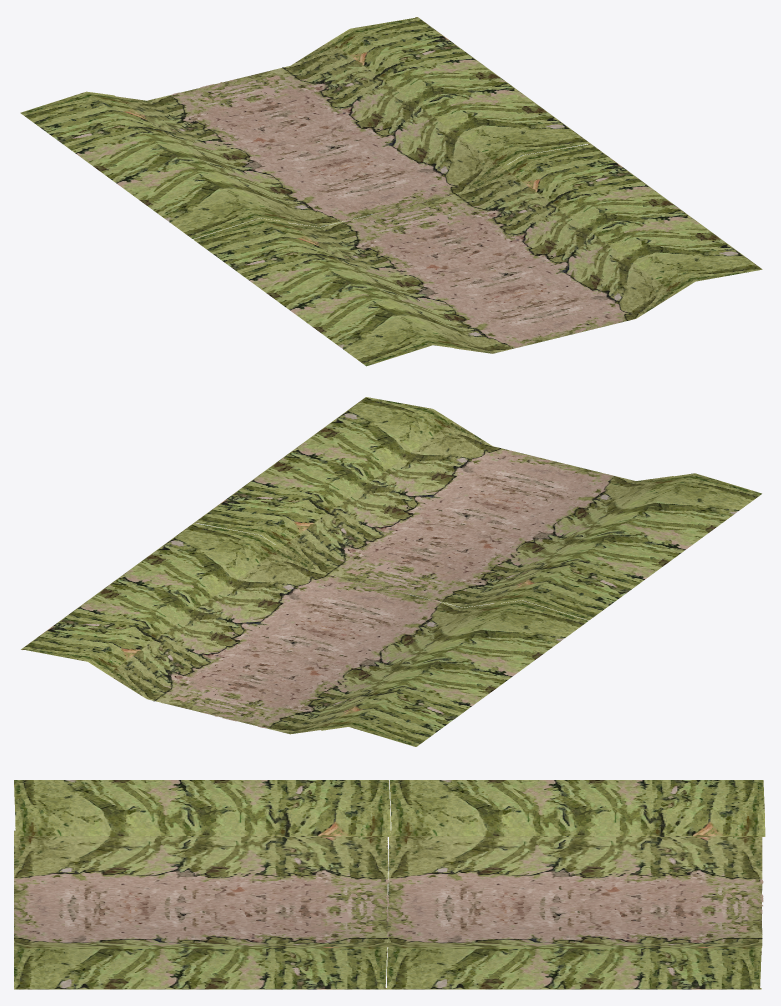
File: zimen.fbx
The picture shows the model from 3 angles, top to bottom: view 1: azimuth 30°, elevation 25°; view 2: azimuth 150°, elevation 25°; view 3: azimuth 270°, elevation 25°; orthographic projection. The views are drawn at different scales.
Parts seen in each view (by area): view 1: grid3, grid2; view 2: grid3, grid2; view 3: grid3, grid2.
Boxes of the visible parts, left/top/right/bottom form: grid3: left=20, top=17, right=590, bottom=238; grid2: left=193, top=143, right=762, bottom=366; grid3: left=21, top=523, right=588, bottom=746; grid2: left=194, top=397, right=761, bottom=620; grid3: left=387, top=780, right=765, bottom=989; grid2: left=14, top=780, right=390, bottom=989.
Bounding box in the file's own units: 126 × 6.74 × 187.
